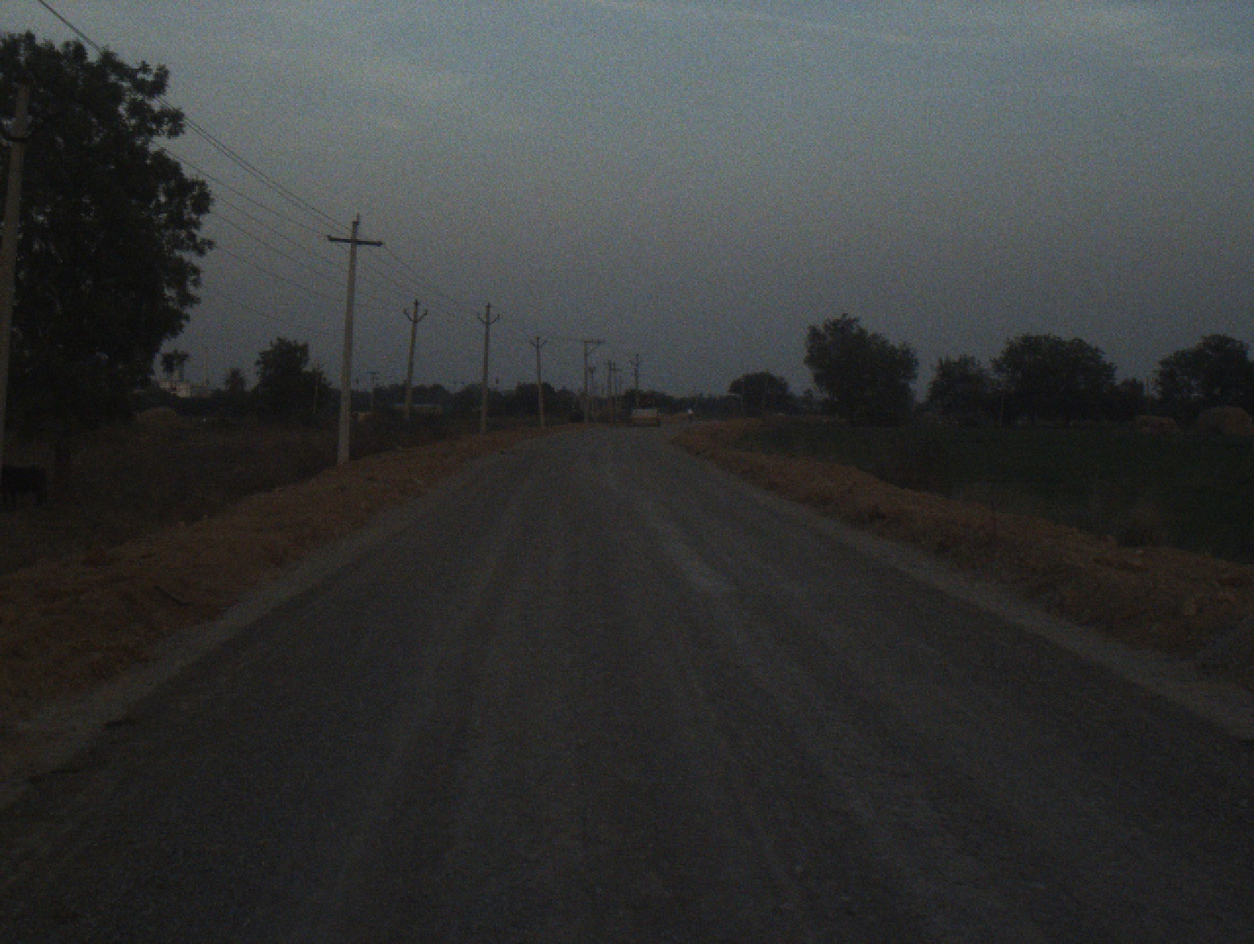vehicle fallback: (630, 388, 665, 429)
